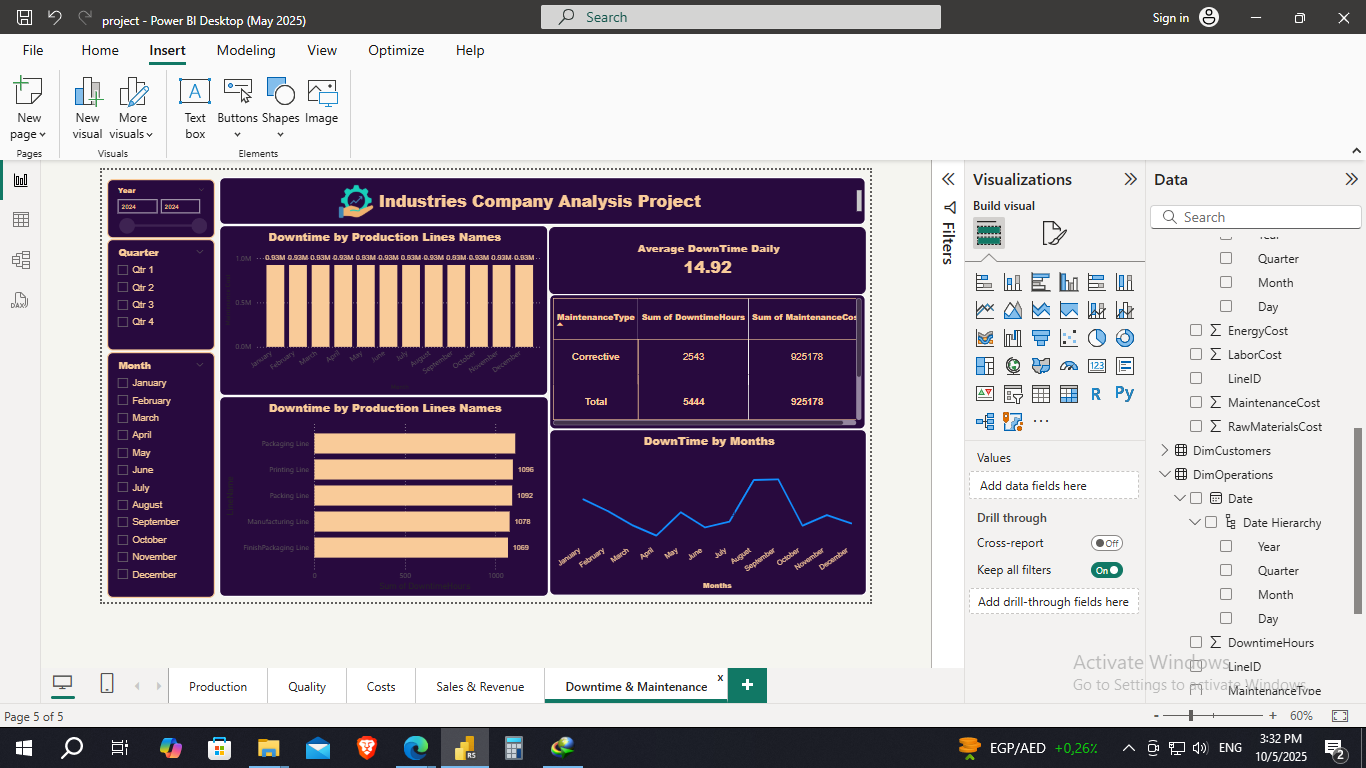

The dashboard page shown, as its layout file describes it:
{"tool":"powerbi","page":{"name":"Downtime & Maintenance","canvas":[1280,720],"ordinal":4},"visuals":[{"type":"textbox","box":[194.9,11.8,1078.4,80],"z":0,"group":"g1"},{"type":"card","title":"Average DownTime Daily ","fields":{"Values":["A_Measure_Table.DownTimeDailyAvg"]},"box":[744.5,95,528.5,112.3],"z":0},{"type":"image","box":[384.7,14.7,77.7,74.6],"z":1000,"group":"g1"},{"type":"lineChart","title":"DownTime by Months","fields":{"Category":["DimOperations.Date.Variation.Date Hierarchy.Month"],"Y":["Sum(DimOperations.DowntimeHours)"]},"box":[745,431.7,530,278.3],"z":1000},{"type":"pivotTable","title":"Costs Distribution by Production Lines Names","fields":{"Rows":["DimOperations.MaintenanceType"],"Values":["Sum(DimOperations.DowntimeHours)","Sum(DimCosts.MaintenanceCost)"]},"box":[744.5,207.4,528.5,226.1],"z":2000},{"type":"slicer","title":"Year","fields":{"Values":["DimOperations.Date.Variation.Date Hierarchy.Quarter"]},"box":[8.4,114.2,179.7,186.5],"z":3000},{"type":"slicer","title":"Year","fields":{"Values":["DimOperations.Date.Variation.Date Hierarchy.Month"]},"box":[8.4,304,179.7,409.9],"z":4000},{"type":"barChart","title":"Downtime by Production Lines Names","fields":{"Category":["FactProductionLines.LineName"],"Y":["Sum(DimOperations.DowntimeHours)"]},"box":[194.4,376.8,550,335],"z":6000},{"type":"slicer","title":"Year","fields":{"Values":["DimOperations.Date.Variation.Date Hierarchy.Year"]},"box":[8.6,14.4,180,99.4],"z":7000},{"type":"columnChart","title":"Downtime by Production Lines Names","fields":{"Category":["DimOperations.Date.Variation.Date Hierarchy.Month"],"Y":["Sum(DimCosts.MaintenanceCost)"]},"box":[194.4,92.2,549,285.1],"z":8000},{"type":"group","id":"g1","title":"Group 1","box":[194.9,11.8,1078.4,80],"z":8001}]}

Visuals, with their boxes on the page's 1280x720 design canvas (x1, y1, x2, y2). These are canvas units, not pixel positions in the 1366x768 screenshot, which may show the page scaled, cropped or inside an application window:
textbox: select_region(195, 12, 1273, 92)
"Average DownTime Daily " card: select_region(744, 95, 1273, 207)
image: select_region(385, 15, 462, 89)
"DownTime by Months" lineChart: select_region(745, 432, 1275, 710)
"Costs Distribution by Production Lines Names" pivotTable: select_region(744, 207, 1273, 434)
"Year" slicer: select_region(8, 114, 188, 301)
"Year" slicer: select_region(8, 304, 188, 714)
"Downtime by Production Lines Names" barChart: select_region(194, 377, 744, 712)
"Year" slicer: select_region(9, 14, 189, 114)
"Downtime by Production Lines Names" columnChart: select_region(194, 92, 743, 377)
"Group 1" group: select_region(195, 12, 1273, 92)
